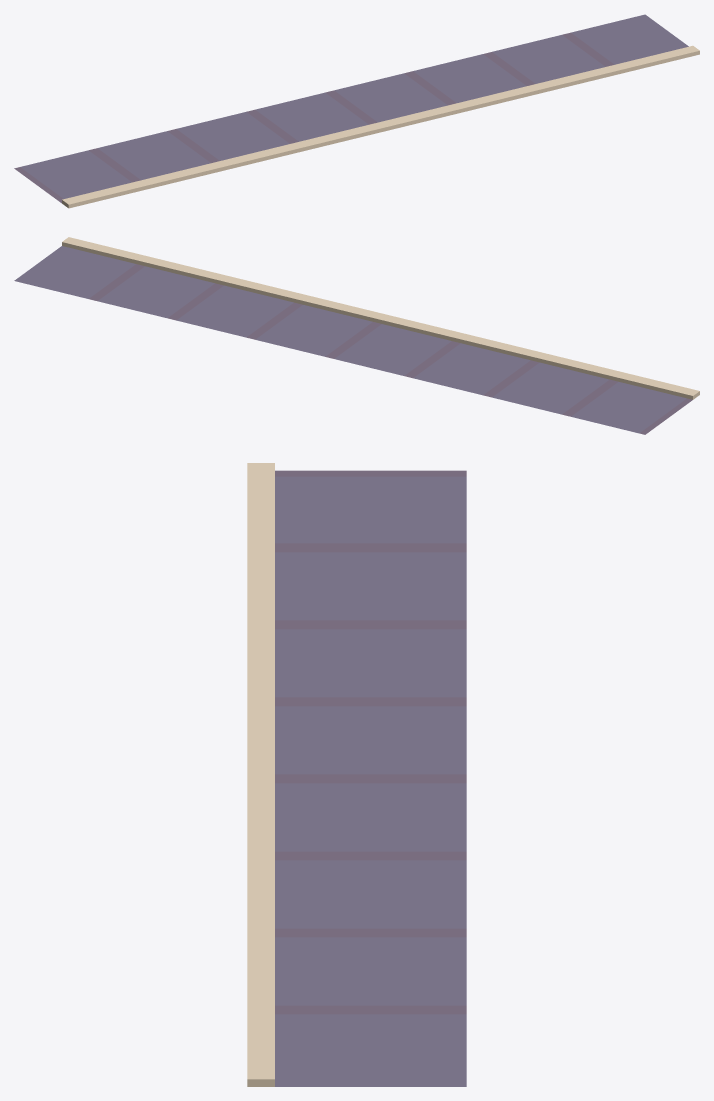
File: Side_Way2.fbx
The picture shows the model from 3 angles, top to bottom: view 1: azimuth 30°, elevation 25°; view 2: azimuth 150°, elevation 25°; view 3: azimuth 270°, elevation 25°; orthographic projection. The views are drawn at different scales.
Visible parts, largest first — view 1: Side_Way2; view 2: Side_Way2; view 3: Side_Way2.
Part boxes in pixels (<box>): Side_Way2: <box>14,14,699,208</box>; Side_Way2: <box>14,237,699,434</box>; Side_Way2: <box>247,463,466,1086</box>.
Size of the model in its own units: 1500 by 8.75 by 225.
